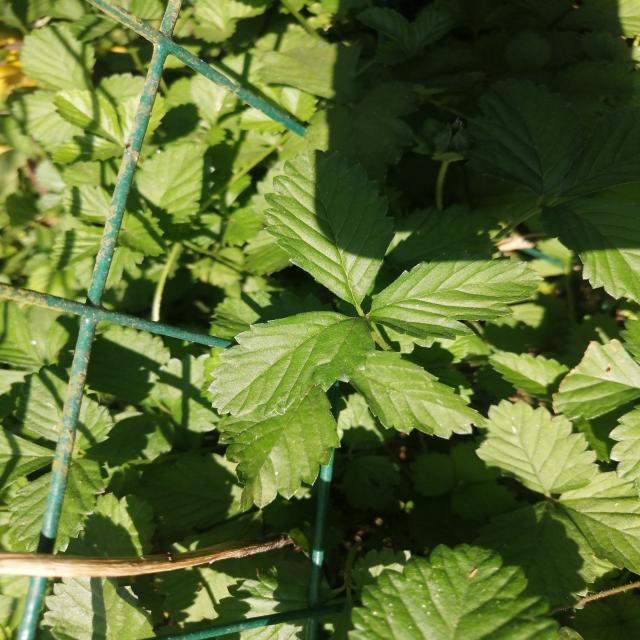Mock_strawberry: (182, 170, 547, 462)
